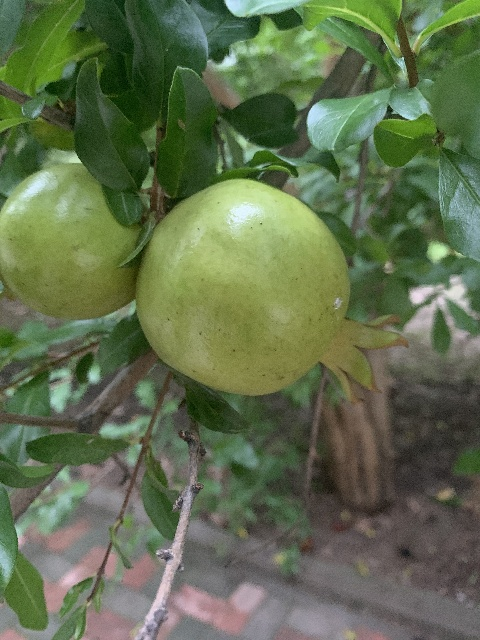mid-growth: (137, 178, 406, 403), (0, 159, 145, 324)
